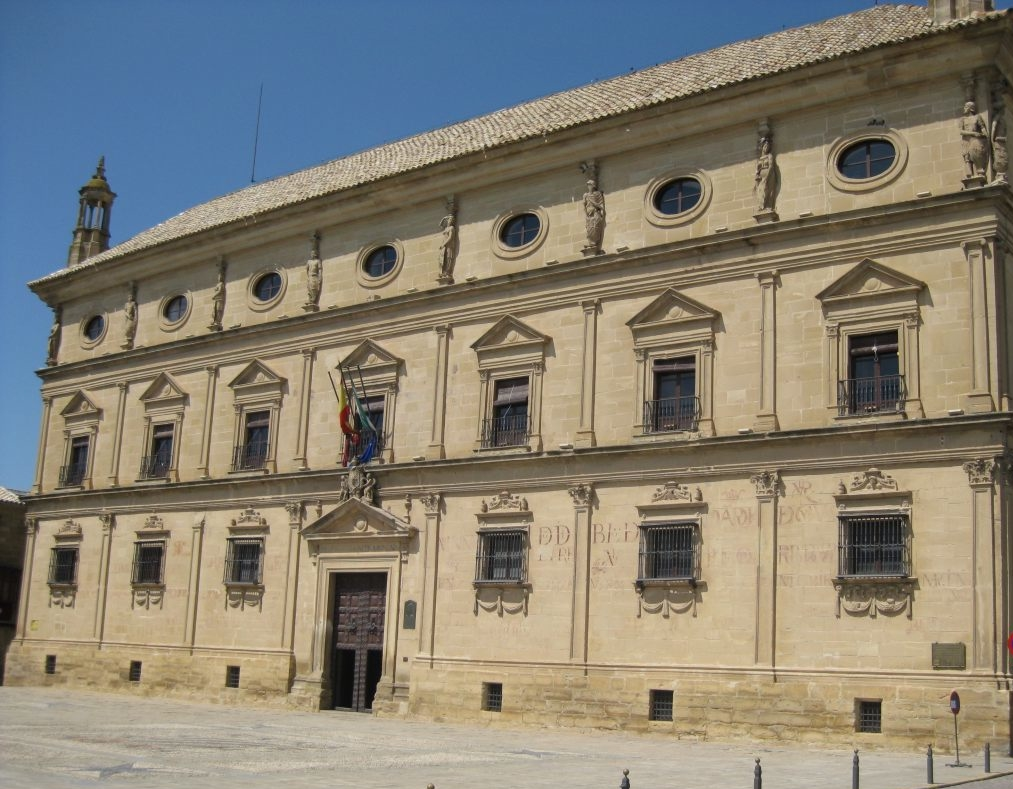fronton: (297, 493, 416, 543), (812, 254, 923, 306), (621, 286, 719, 335), (468, 309, 553, 355), (333, 333, 404, 378), (227, 356, 288, 395), (137, 367, 190, 410), (58, 383, 107, 422)
ojo-de-buey: (825, 127, 910, 192), (643, 168, 714, 223), (489, 203, 551, 257), (353, 236, 405, 288), (243, 263, 289, 314), (154, 288, 194, 333), (77, 311, 110, 348)
vano-adintelado: (308, 548, 403, 716), (826, 302, 921, 420), (631, 331, 716, 438), (472, 352, 546, 453), (333, 373, 399, 468), (228, 390, 284, 475), (132, 404, 187, 483), (52, 420, 102, 490)
